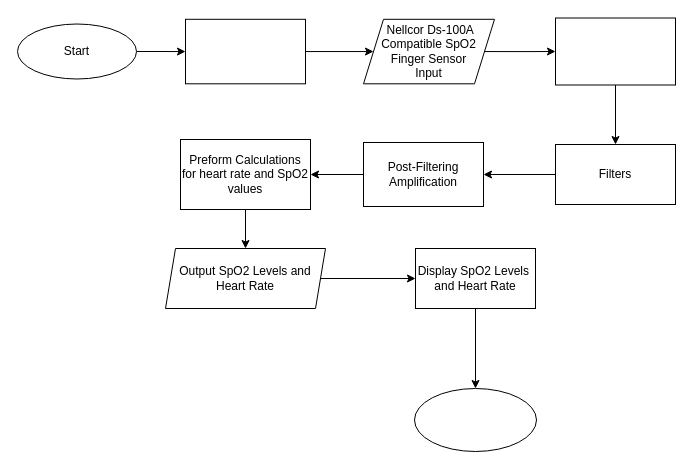
The diagram is 693 pixels wide and 469 high, and some of its shapes have lost their labels. Here are the shapes that lost their labels. From the top down, the centre of each, then its label:
point 245,51: Switching for LEDS
point 615,51: Current to Voltage Converter & Amplification
point 475,420: End
